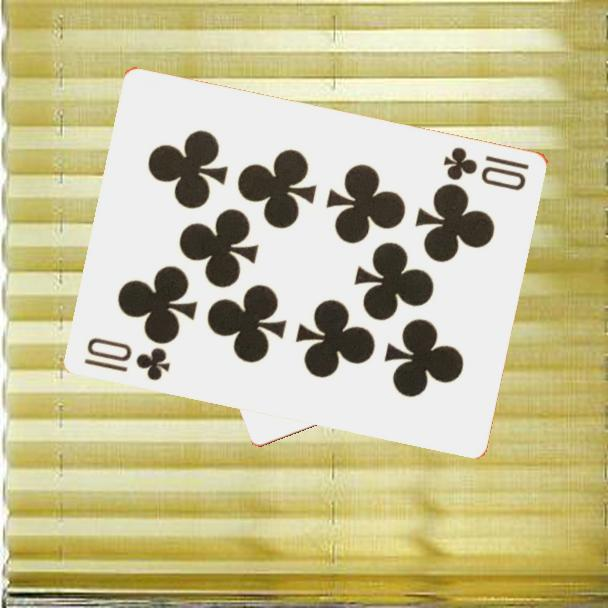c10: (440, 143, 533, 193), (81, 333, 174, 383)
